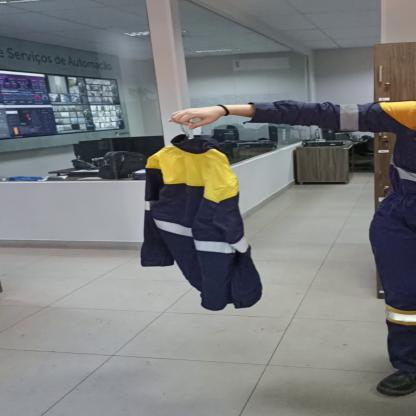C_eletrica: (135, 134, 267, 310)
